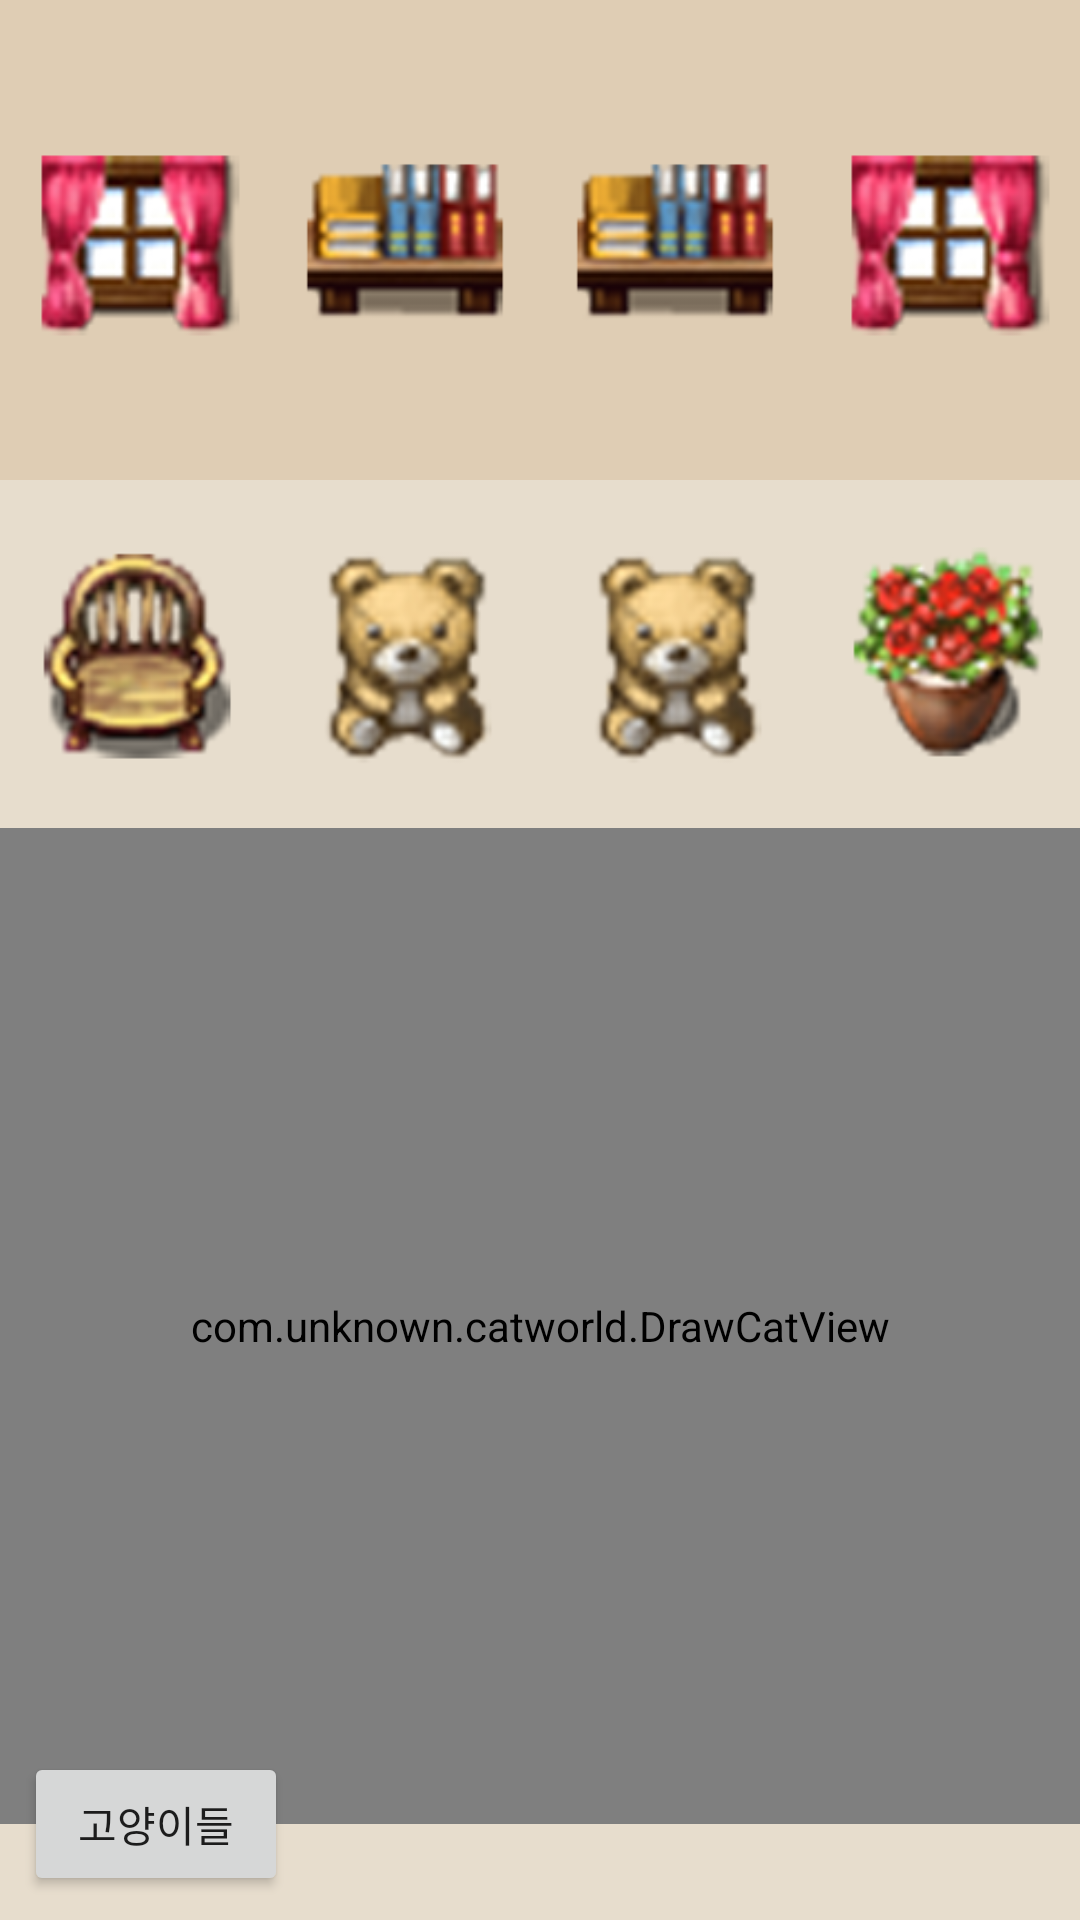

Icon bounding boxes for this 1080 × 1920 phone screenshot, format (x1, y1, x2, y2):
chair: (43, 553, 231, 759)
doll: (328, 557, 487, 758), (598, 557, 757, 758)
flower: (853, 551, 1043, 757)
shelf: (306, 164, 504, 317), (576, 164, 774, 317)
window: (41, 155, 238, 332), (851, 155, 1048, 332)
